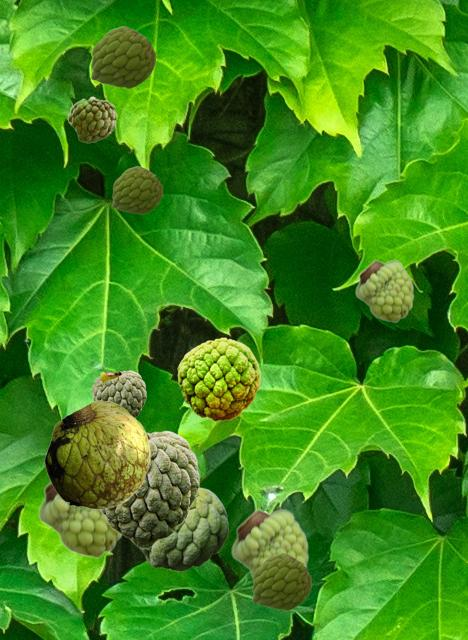atis: (99, 430, 198, 547), (44, 400, 149, 508), (138, 487, 227, 570), (177, 337, 259, 420), (38, 481, 122, 558), (231, 508, 308, 578), (91, 26, 154, 87), (355, 259, 413, 322), (252, 553, 310, 609), (91, 370, 145, 417), (112, 166, 161, 213), (67, 96, 116, 142)
